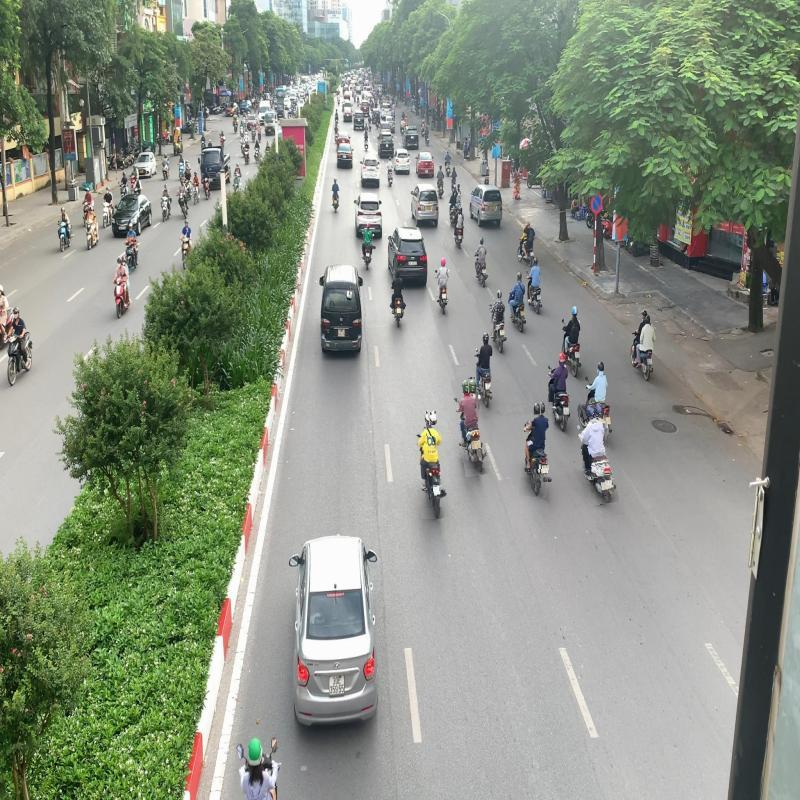helmet: (248, 736, 266, 768), (594, 403, 604, 420), (428, 410, 437, 425), (468, 379, 476, 393), (534, 403, 542, 415)
licenseplate: (540, 464, 549, 474), (433, 485, 440, 496), (471, 440, 478, 450), (602, 481, 608, 490)
motorcyclist: (576, 402, 616, 506), (416, 410, 448, 519), (235, 732, 284, 800), (454, 377, 486, 476), (522, 401, 554, 498)
